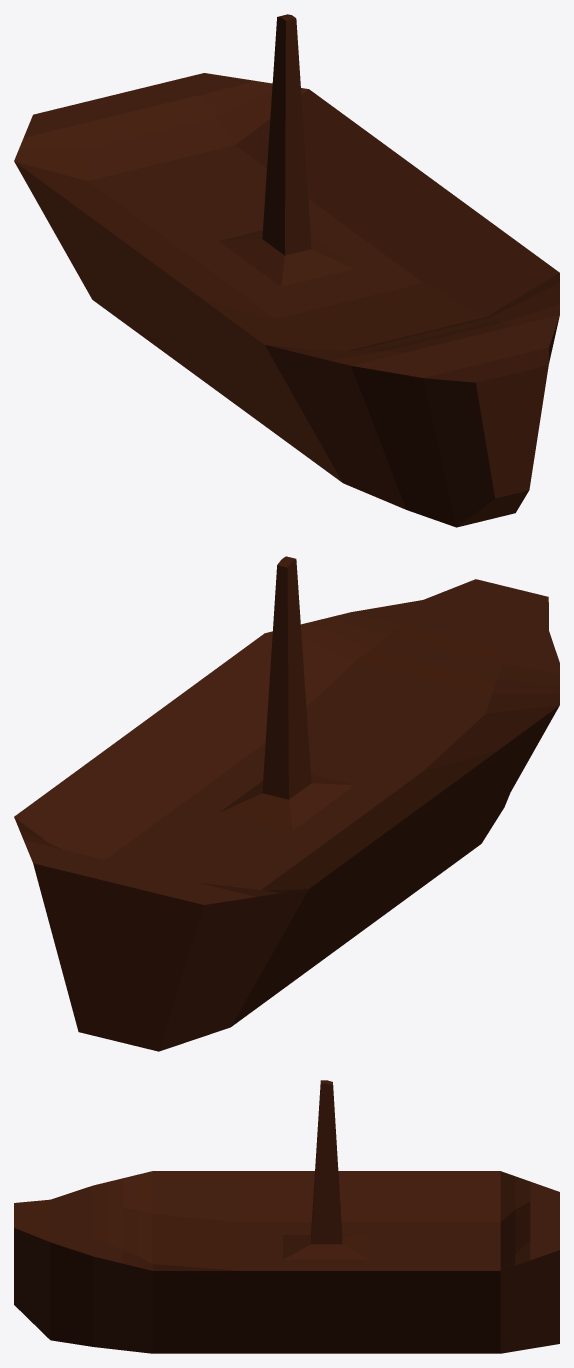
The model's file is ship.gltf.
3 renders of one model, top to bottom at view 1: azimuth 30°, elevation 25°; view 2: azimuth 150°, elevation 25°; view 3: azimuth 270°, elevation 25°, orthographic. The views are drawn at different scales.
Parts seen in each view (by area): view 1: Cube; view 2: Cube; view 3: Cube.
Boxes of the visible parts, bbox=[...] form: Cube: bbox=[14, 14, 559, 527]; Cube: bbox=[14, 556, 559, 1051]; Cube: bbox=[14, 1080, 559, 1353].
Size of the model in its own units: 30.6 by 35.48 by 70.69.
